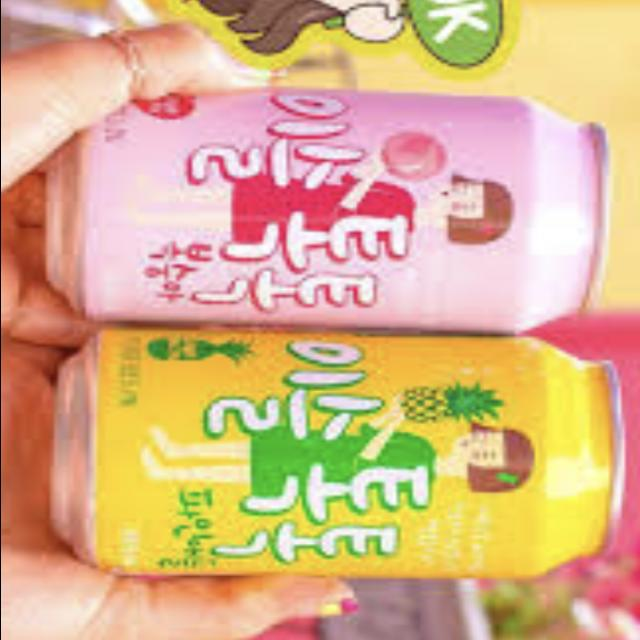can: (30, 317, 630, 593), (32, 64, 624, 330)
